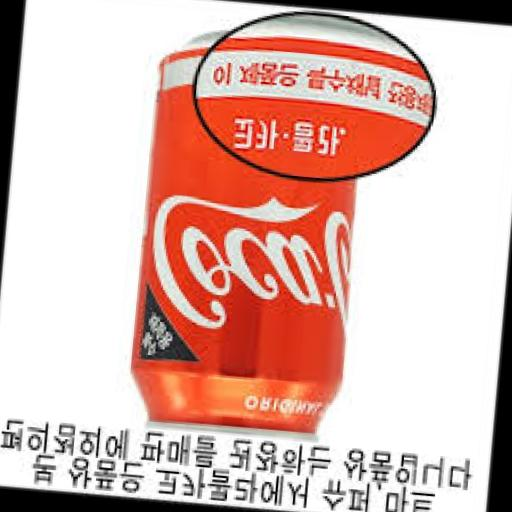Coca: (118, 8, 384, 451)
